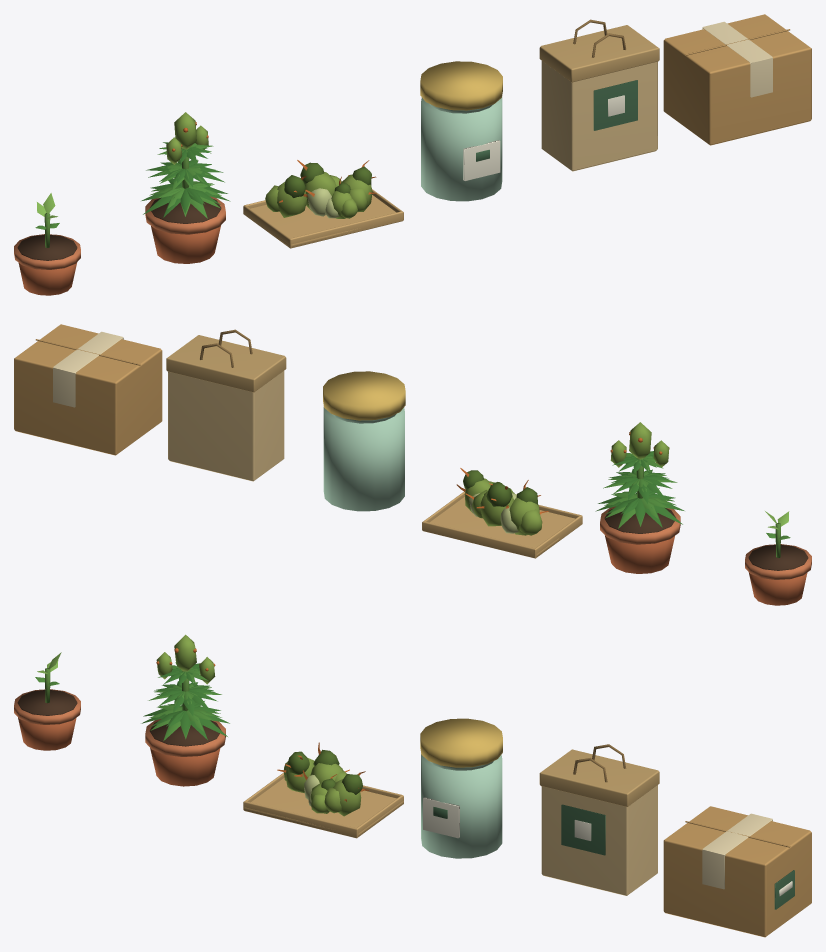
The model's file is cargo_items.glb.
The picture shows the model from 3 angles, top to bottom: view 1: azimuth 30°, elevation 25°; view 2: azimuth 150°, elevation 25°; view 3: azimuth 330°, elevation 25°; orthographic projection.
Parts seen in each view (by area): view 1: BoxBody, BagBody, JarBody, BagFold, JarLid, TrayBase, PlantPot, BagLabel, SeedPot, TrayBud2, TrayBud0, SeedSoil (+14 smaller); view 2: BoxBody, BagBody, JarBody, BagFold, JarLid, TrayBase, PlantPot, TrayBud0, SeedPot, TrayBud2, TrayLipY1, SeedSoil (+10 smaller); view 3: BoxBody, BagBody, JarBody, BagFold, JarLid, TrayBase, PlantPot, BagLabel, SeedPot, TrayBud1, SeedSoil, BoxTape (+13 smaller).
Part boxes in pixels (bbox=[...]): BoxBody: bbox=[663, 14, 811, 145]; BagBody: bbox=[541, 61, 657, 171]; JarBody: bbox=[421, 97, 502, 201]; BagFold: bbox=[539, 25, 659, 82]; JarLid: bbox=[420, 61, 502, 110]; TrayBase: bbox=[250, 195, 396, 247]; PlantPot: bbox=[151, 226, 220, 263]; BagLabel: bbox=[593, 80, 637, 130]; SeedPot: bbox=[18, 263, 76, 295]; TrayBud2: bbox=[297, 160, 341, 216]; TrayBud0: bbox=[265, 175, 307, 217]; SeedSoil: bbox=[17, 235, 77, 260]; BoxBody: bbox=[14, 324, 162, 455]; BagBody: bbox=[168, 371, 284, 481]; JarBody: bbox=[323, 407, 404, 511]; BagFold: bbox=[166, 335, 286, 392]; JarLid: bbox=[323, 371, 405, 420]; TrayBase: bbox=[429, 497, 575, 556]; PlantPot: bbox=[605, 536, 674, 573]; TrayBud0: bbox=[500, 480, 548, 535]; SeedPot: bbox=[749, 573, 807, 605]; TrayBud2: bbox=[472, 482, 516, 526]; TrayLipY1: bbox=[422, 521, 536, 558]; SeedSoil: bbox=[748, 545, 808, 570]; BoxBody: bbox=[663, 806, 811, 937]; BagBody: bbox=[541, 785, 657, 895]; JarBody: bbox=[421, 754, 502, 858]; BagFold: bbox=[539, 749, 659, 807]; JarLid: bbox=[420, 718, 502, 767]; TrayBase: bbox=[244, 778, 403, 836]; PlantPot: bbox=[150, 748, 220, 786]; BagLabel: bbox=[561, 804, 605, 855]; SeedPot: bbox=[18, 717, 76, 750]; TrayBud1: bbox=[324, 771, 368, 816]; SeedSoil: bbox=[17, 690, 77, 715]; BoxTape: bbox=[702, 813, 772, 855].
Size of the model in its own units: 1.68 by 0.2901 by 0.1835.
